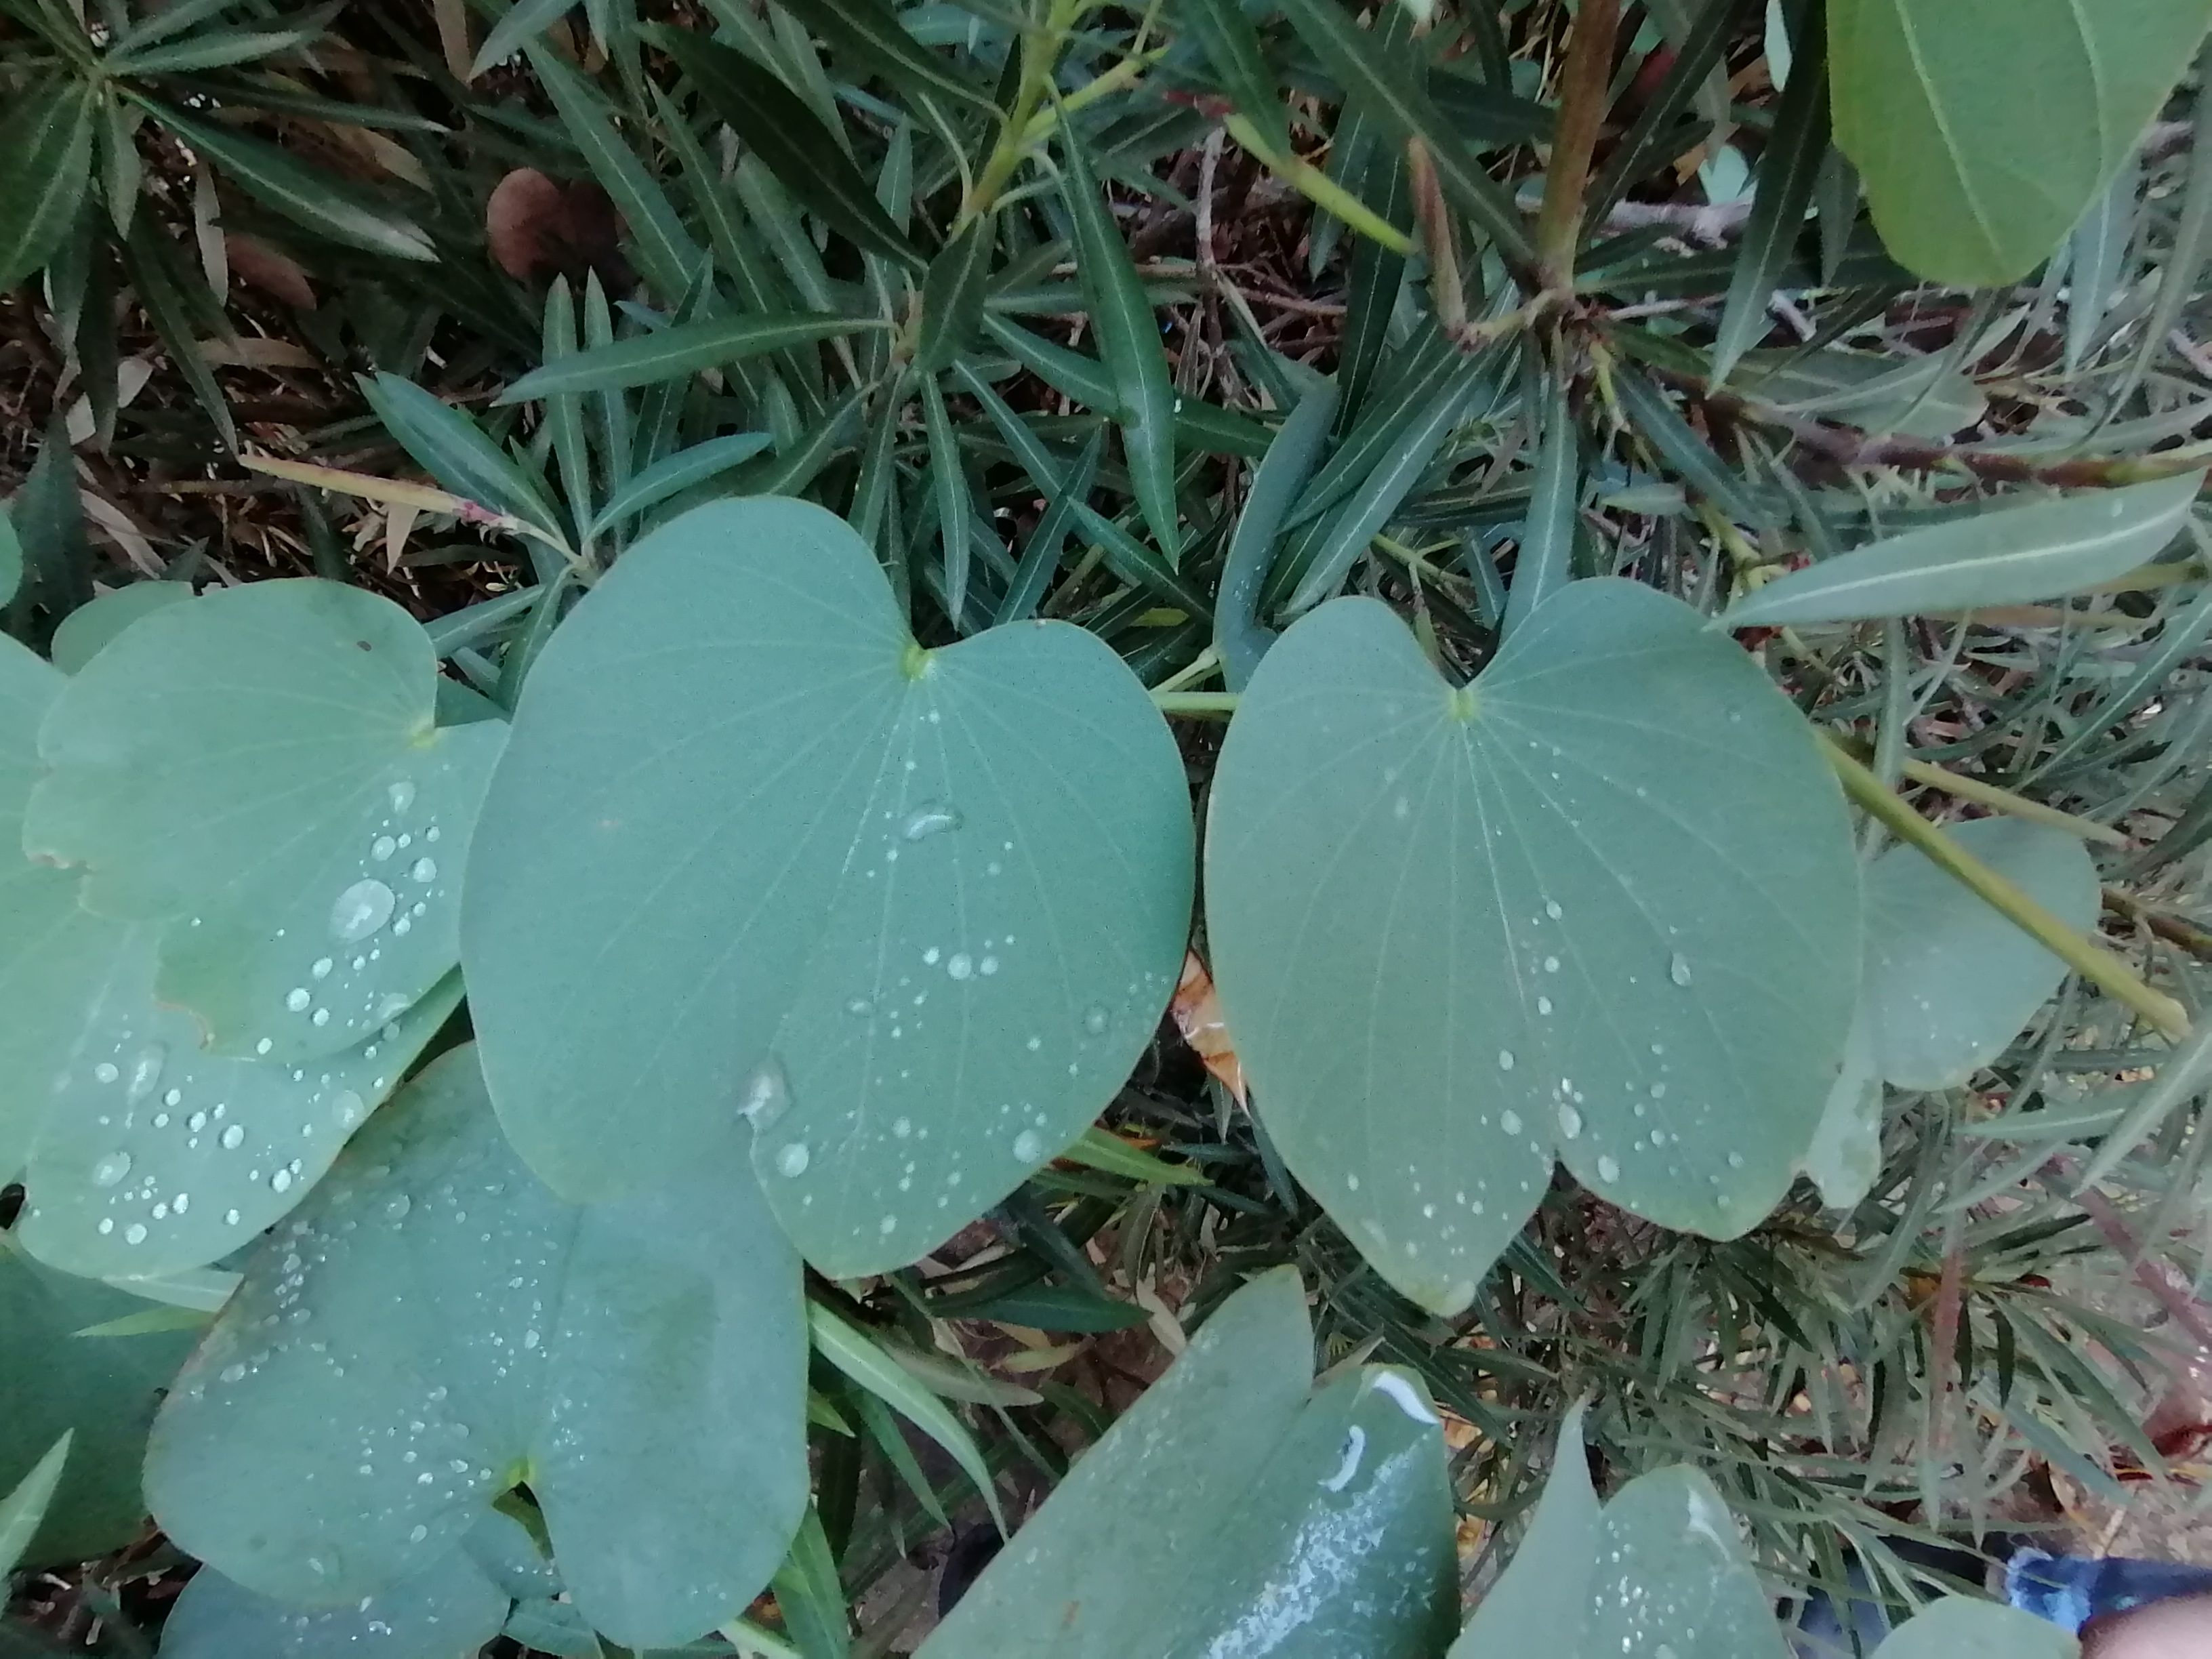healthy: (441, 601, 1195, 1277), (1195, 577, 1811, 1246), (143, 1042, 810, 1638), (28, 544, 557, 1011)
